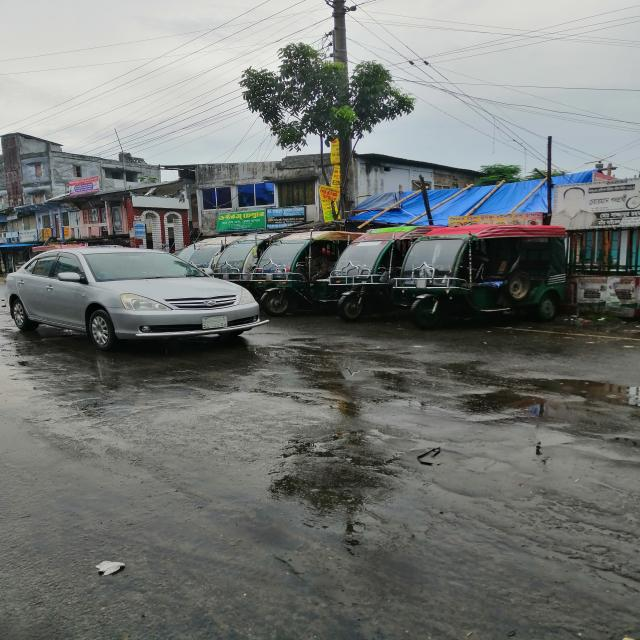Car: (1, 245, 272, 351)
Easybike: (398, 213, 577, 330), (332, 221, 424, 323), (259, 230, 337, 317)
